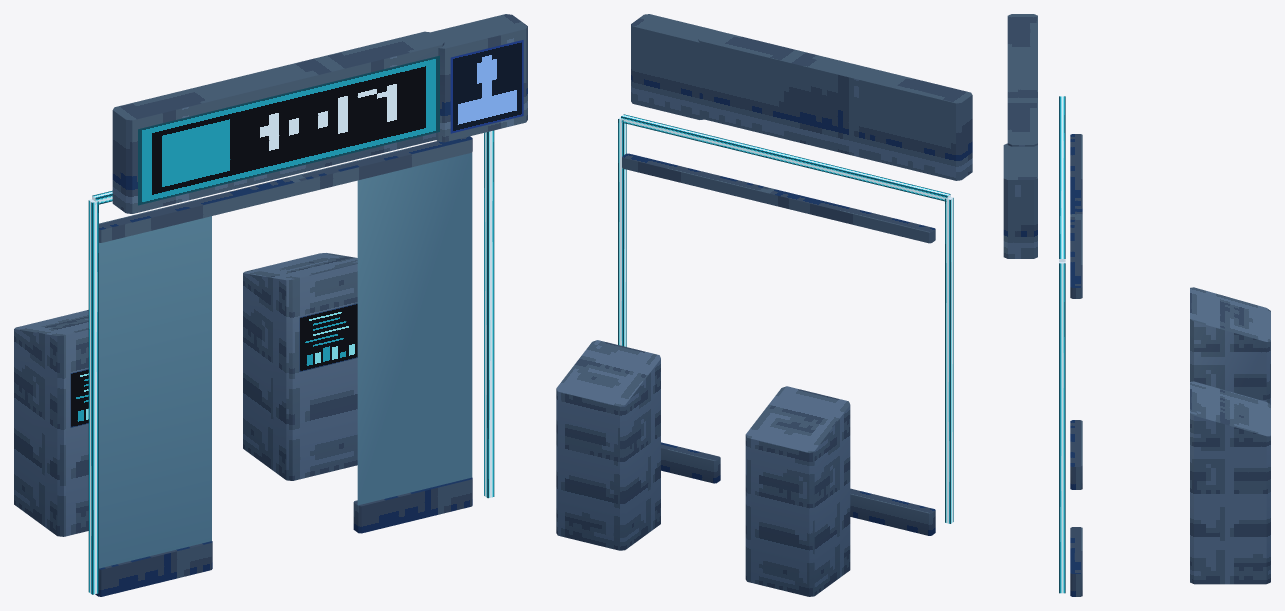
The model's file is cysign.arcade.glb.
3 views of the same model, side by side, from view 1: azimuth 30°, elevation 25°; view 2: azimuth 150°, elevation 25°; view 3: azimuth 270°, elevation 25° (orthographic). The views are drawn at different scales.
Visible parts, largest first — view 1: kit_card_cards, kit_front, kit_chase; view 2: kit_front, kit_chase; view 3: kit_front, kit_chase.
Part boxes in pixels (left/top/right/bottom): kit_card_cards: left=70, top=40, right=523, bottom=568; kit_front: left=14, top=14, right=527, bottom=596; kit_chase: left=88, top=130, right=494, bottom=594; kit_front: left=556, top=14, right=972, bottom=596; kit_chase: left=618, top=114, right=953, bottom=523; kit_front: left=1003, top=14, right=1270, bottom=596; kit_chase: left=1059, top=96, right=1065, bottom=593.
Size of the model in its own units: 3.89 by 4.64 by 2.67.
6 materials, 5 textured.
